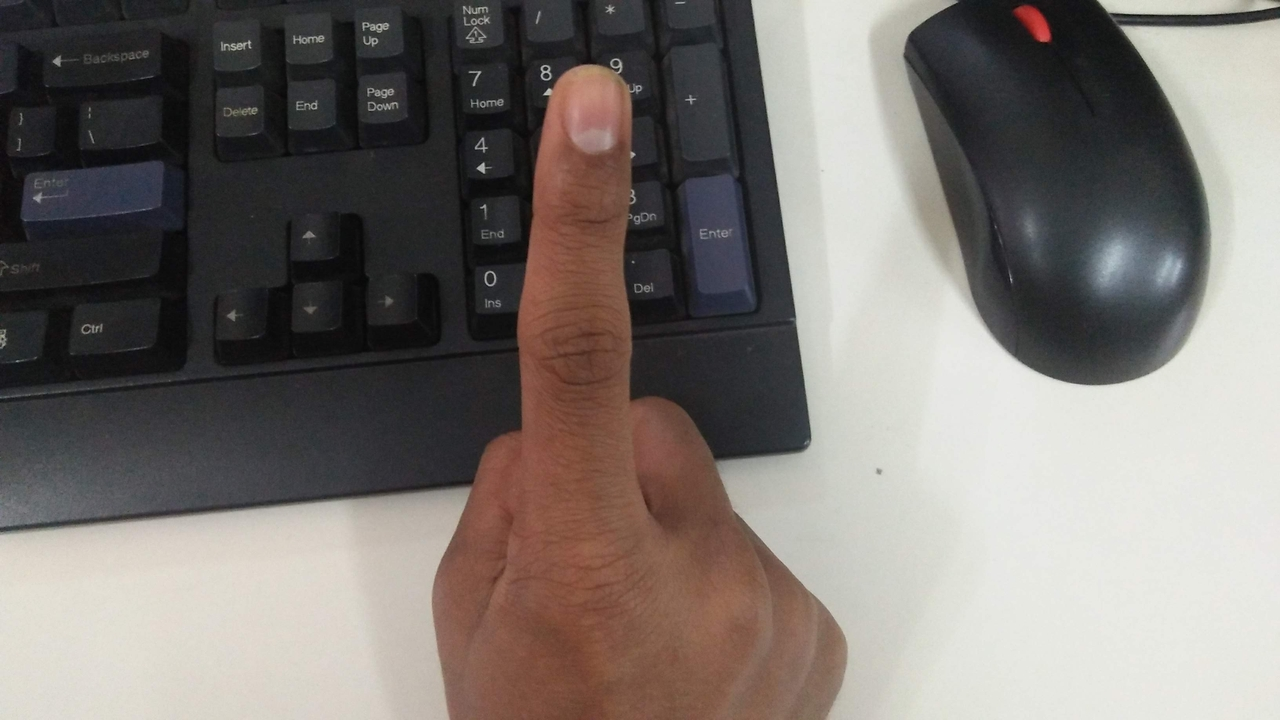fingertip: (538, 66, 630, 140)
